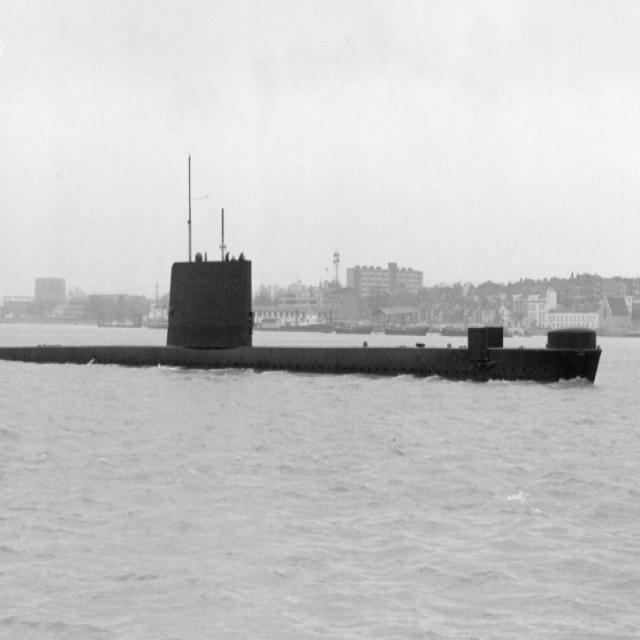submarine: (1, 253, 599, 384)
